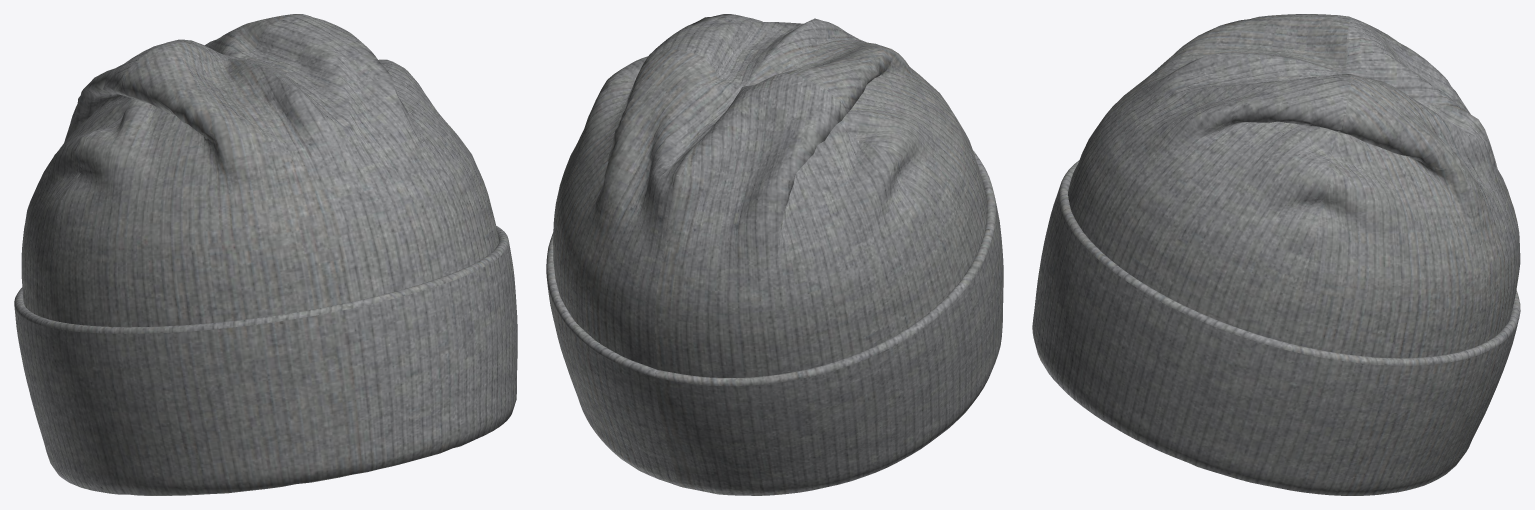
File: newcanucks.glb
3 renders of one model, left to right at view 1: azimuth 30°, elevation 25°; view 2: azimuth 150°, elevation 25°; view 3: azimuth 270°, elevation 25°, orthographic. The views are drawn at different scales.
Parts seen in each view (by area): view 1: Object_6; view 2: Object_6; view 3: Object_6.
Boxes of the visible parts, bbox=[...] form: Object_6: bbox=[14, 14, 517, 495]; Object_6: bbox=[546, 14, 1003, 495]; Object_6: bbox=[1032, 14, 1520, 495].
Size of the model in its own units: 0.199 by 0.1888 by 0.2114.
Materials: 1 (1 with a texture image).
